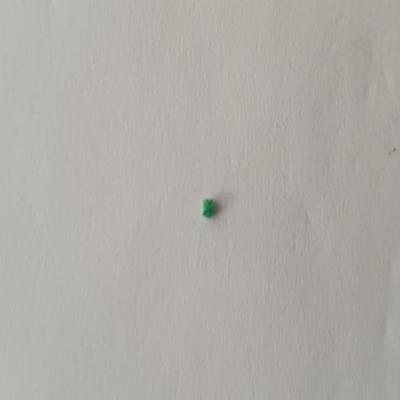plastic: (198, 194, 226, 218)
